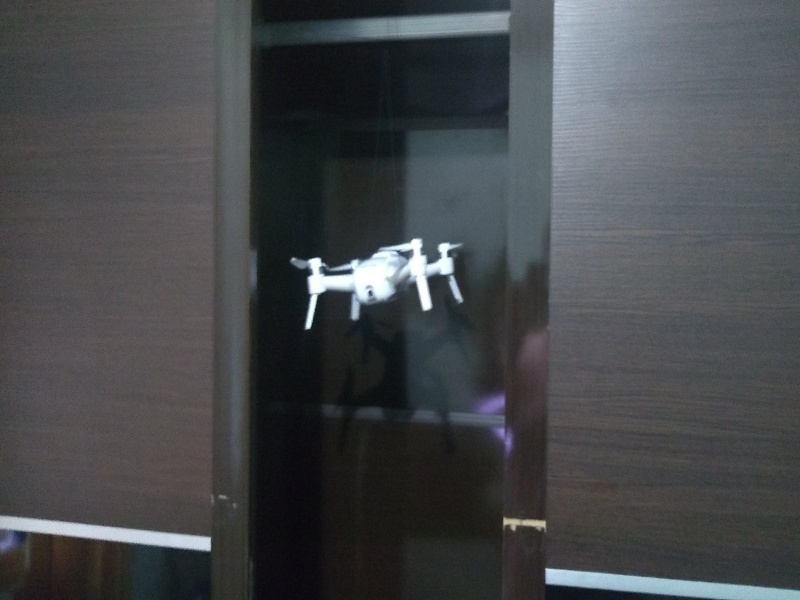drone: (279, 227, 475, 322)
